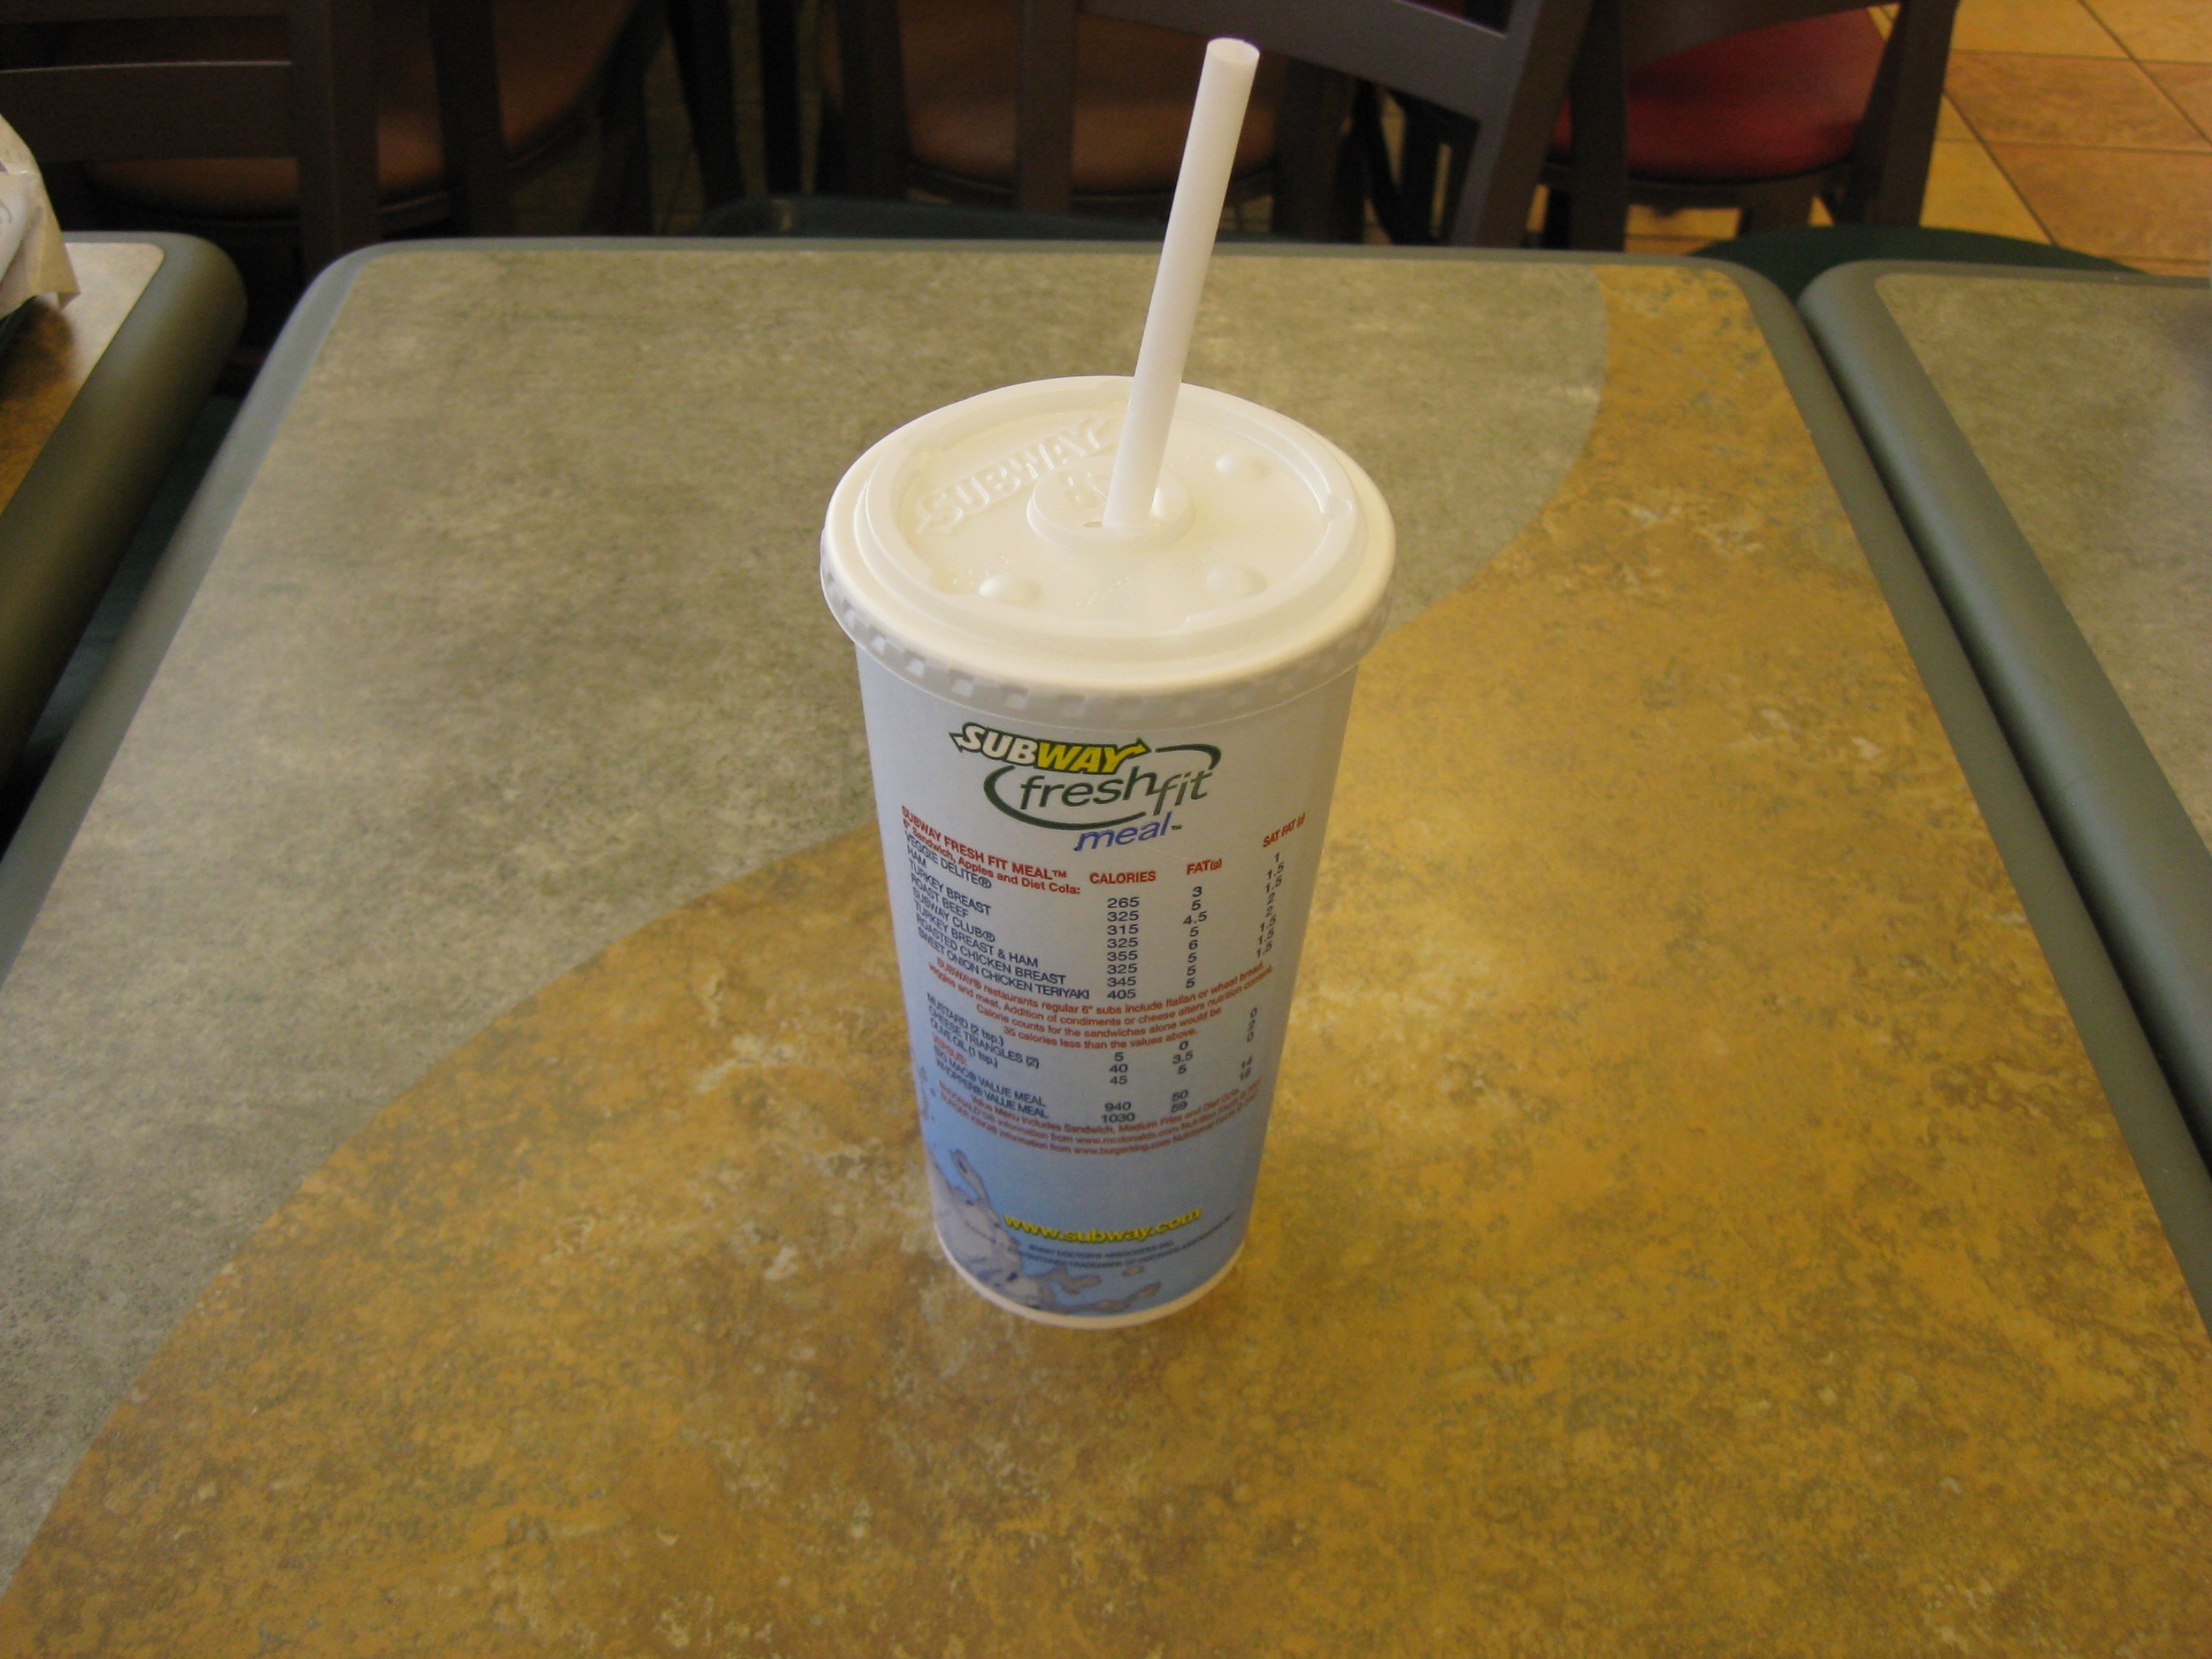drink: (771, 37, 1453, 1346)
